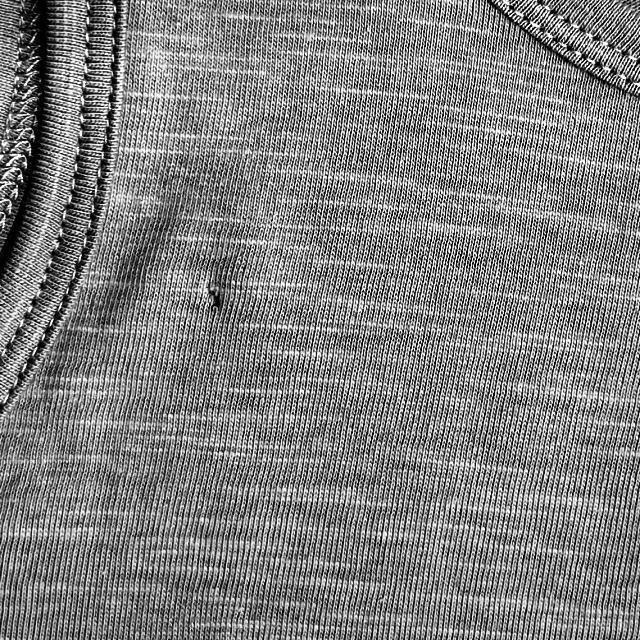Hole: (197, 279, 232, 320)
